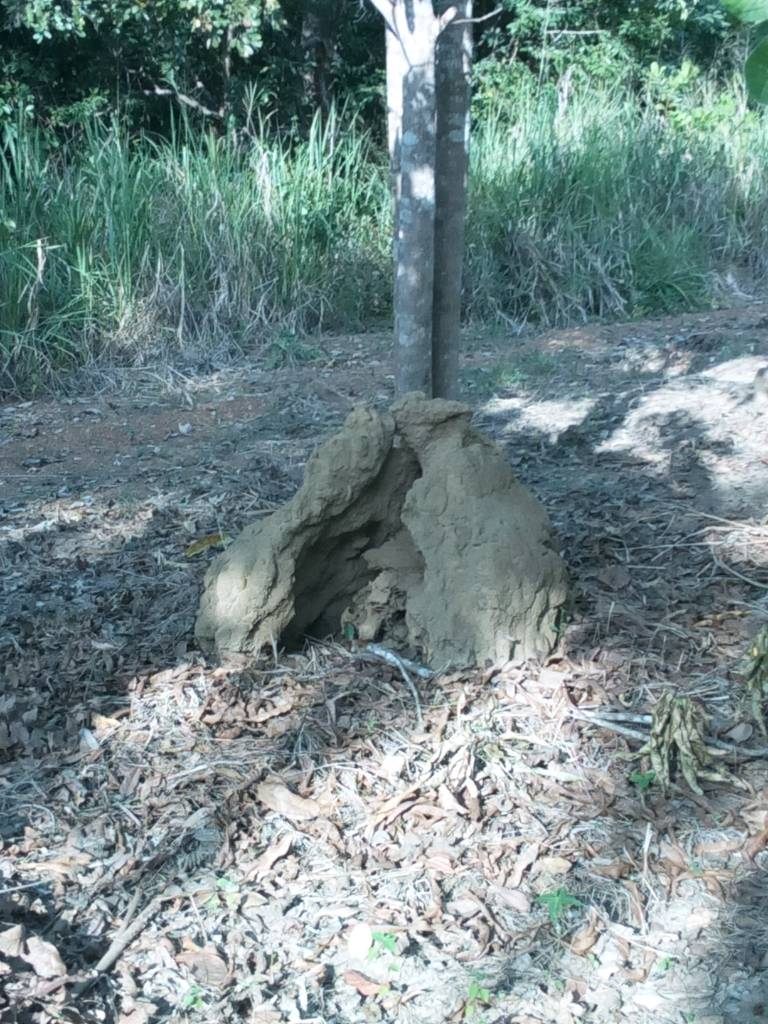Termites: (204, 410, 391, 641), (415, 392, 558, 658)
